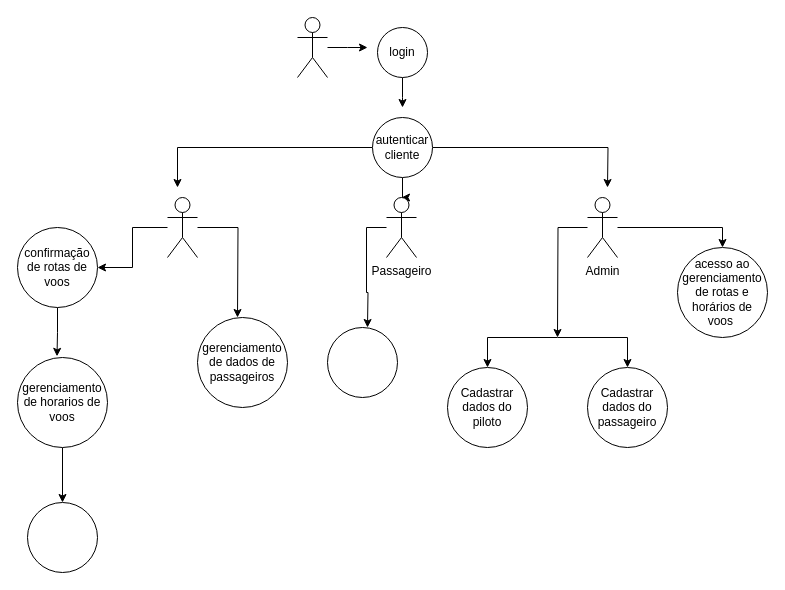
This 785x590 diagram has some shape labels left out. Each missing label, with the box of its shape:
Checar informações do voo: (326, 326, 398, 398)
Confirmação de voos: (26, 502, 98, 572)
Piloto: (166, 196, 198, 258)
Usuário: (296, 16, 328, 78)
